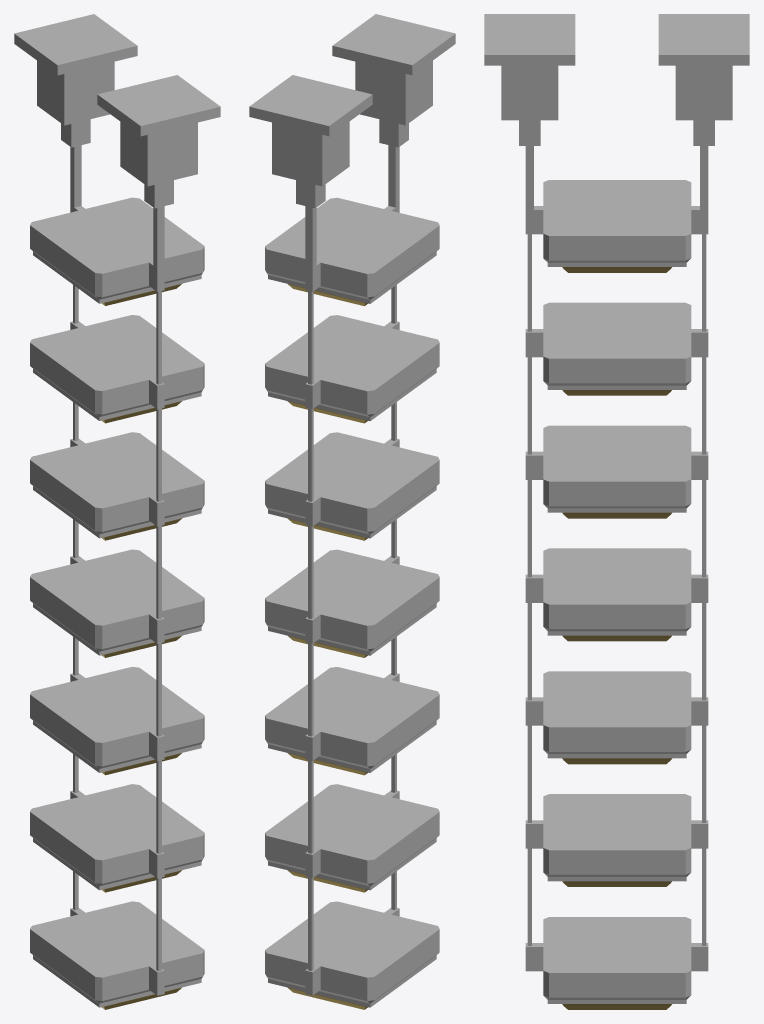
Rendered from suspension_chain_2.fbx.
3 renders of one model, left to right at view 1: azimuth 30°, elevation 25°; view 2: azimuth 150°, elevation 25°; view 3: azimuth 270°, elevation 25°, orthographic. The views are drawn at different scales.
Parts seen in each view (by area): view 1: Cube; view 2: Cube; view 3: Cube.
Boxes of the visible parts, x1,y1,x2,y2 form: Cube: [14, 14, 220, 1009]; Cube: [249, 14, 455, 1009]; Cube: [484, 14, 749, 1009].
Bounding box in the file's own units: 0.015 × 0.12 × 0.03.
